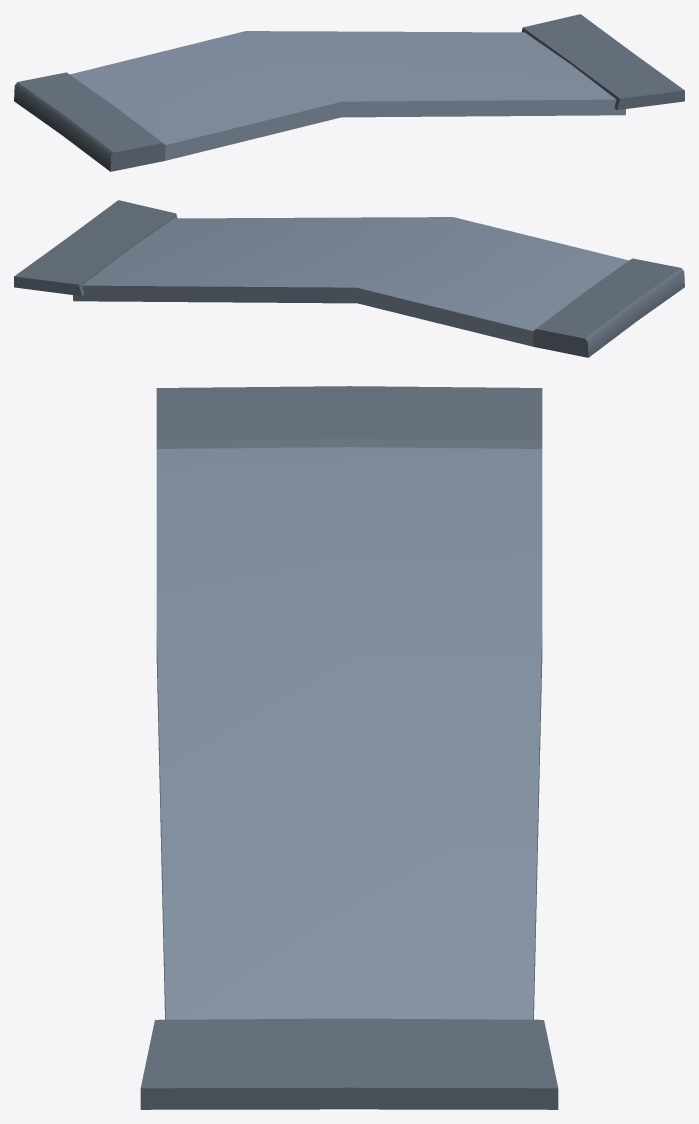
Rendered from S5_BattleShip_Slide_01_Lod3.fbx.
The picture shows the model from 3 angles, top to bottom: view 1: azimuth 30°, elevation 25°; view 2: azimuth 150°, elevation 25°; view 3: azimuth 270°, elevation 25°; orthographic projection. The views are drawn at different scales.
Parts seen in each view (by area): view 1: S5_BattleShip_Slide_01_Lod3; view 2: S5_BattleShip_Slide_01_Lod3; view 3: S5_BattleShip_Slide_01_Lod3.
Part boxes in pixels (left/top/right/bottom): S5_BattleShip_Slide_01_Lod3: left=14, top=14, right=684, bottom=171; S5_BattleShip_Slide_01_Lod3: left=14, top=200, right=684, bottom=357; S5_BattleShip_Slide_01_Lod3: left=140, top=386, right=558, bottom=1109.
Bounding box in the file's own units: 1046 × 159 × 332.
